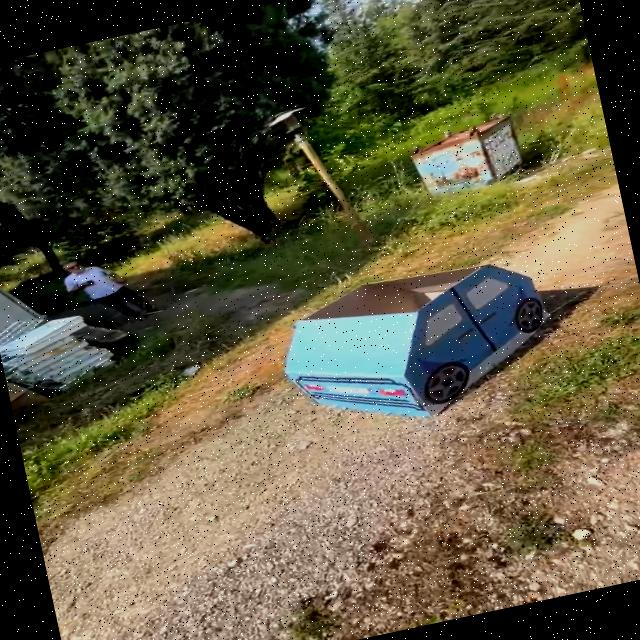blue_car: (242, 225, 609, 470)
